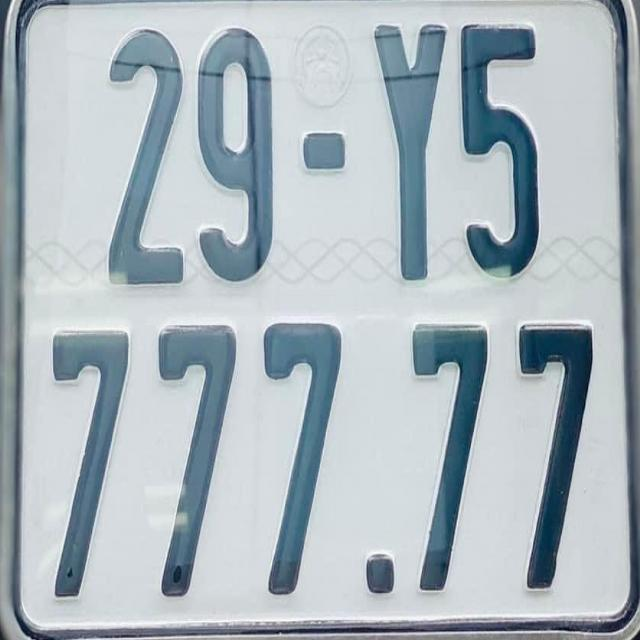2: (99, 17, 190, 288)
5: (455, 12, 546, 282)
7: (255, 308, 346, 601), (149, 310, 239, 602), (43, 314, 131, 604), (404, 310, 492, 598), (511, 310, 598, 596)
9: (192, 15, 280, 286)
Y: (372, 3, 452, 280)
